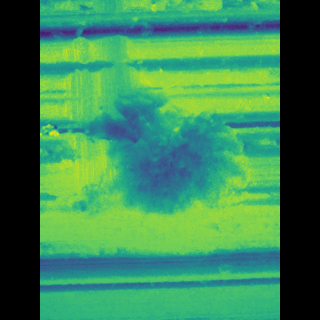Loch: (81, 27, 231, 235)
